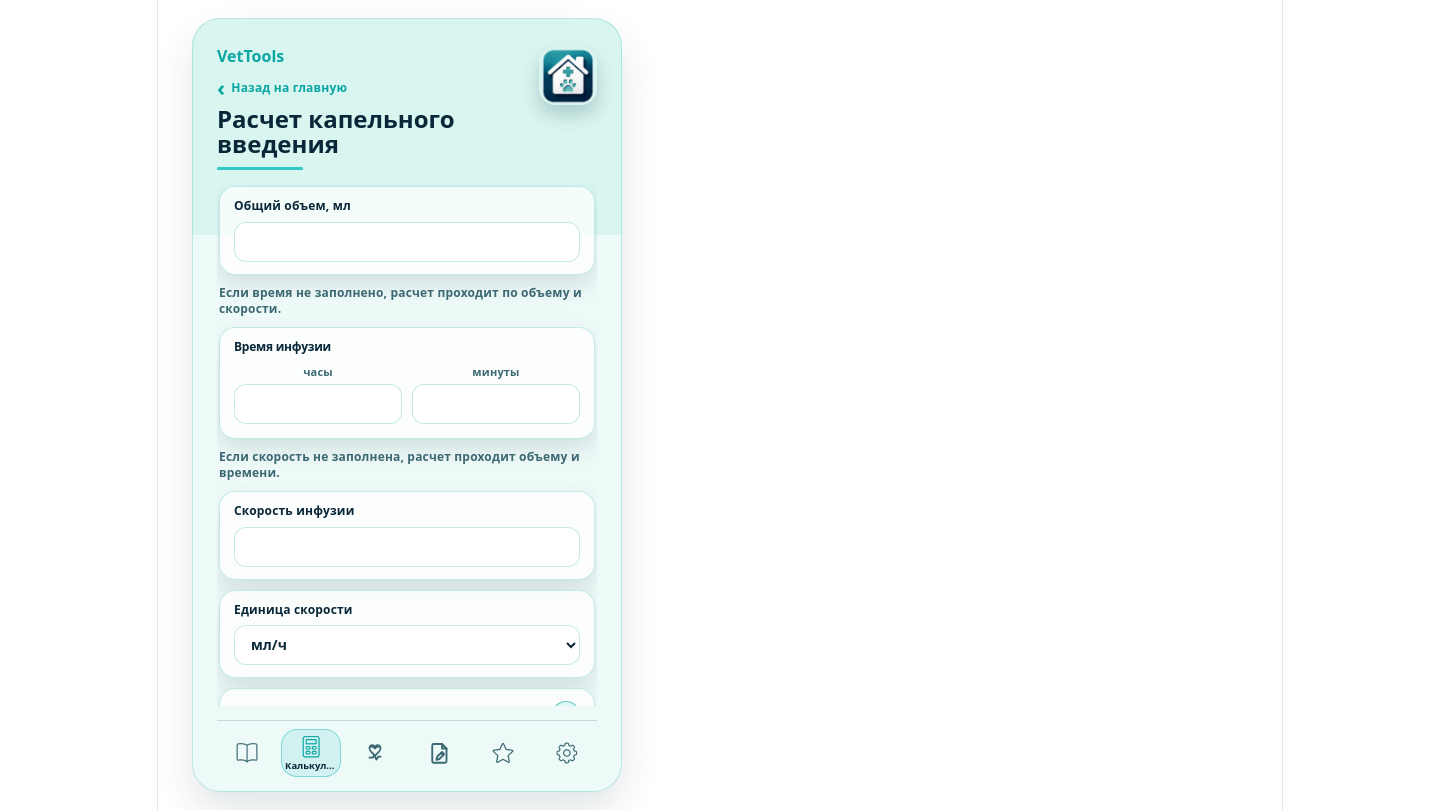
Test: IvDripPage › calculates drip tempo from volume and infusion time
The image size is (1440, 810).
Expected: the heading "Расчет капельного введения" is shown, x1=217 y1=106 x2=455 y2=170
Expected: the navigation bar named "Основная навигация" is shown, x1=217 y1=720 x2=597 y2=777
In the number field labelled "Общий объем, мл": {"x": 407, "y": 242} x1=234 y1=222 x2=580 y2=262, type "500"
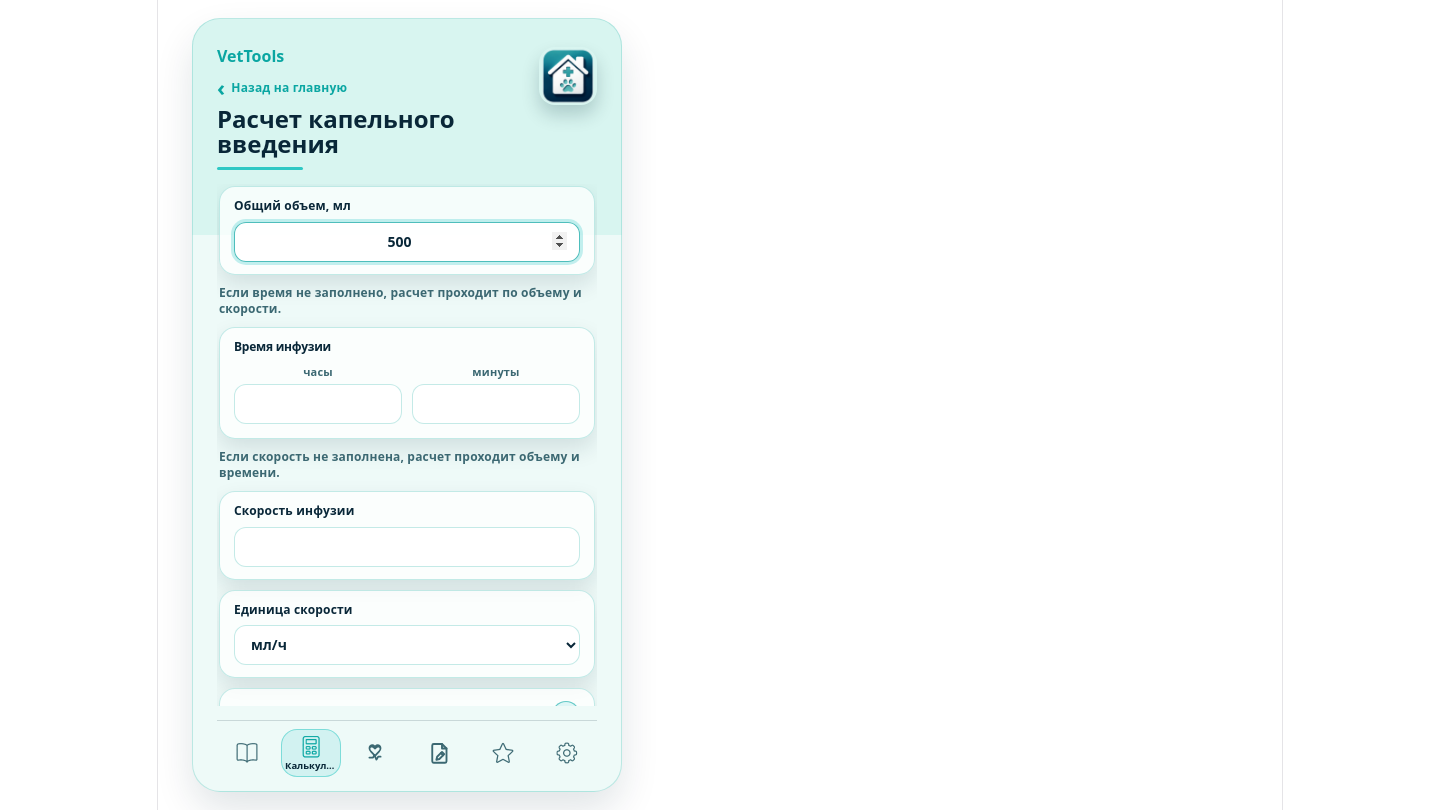
In the number field named "Время инфузии, часы": {"x": 318, "y": 404} x1=234 y1=384 x2=402 y2=424, type "4"
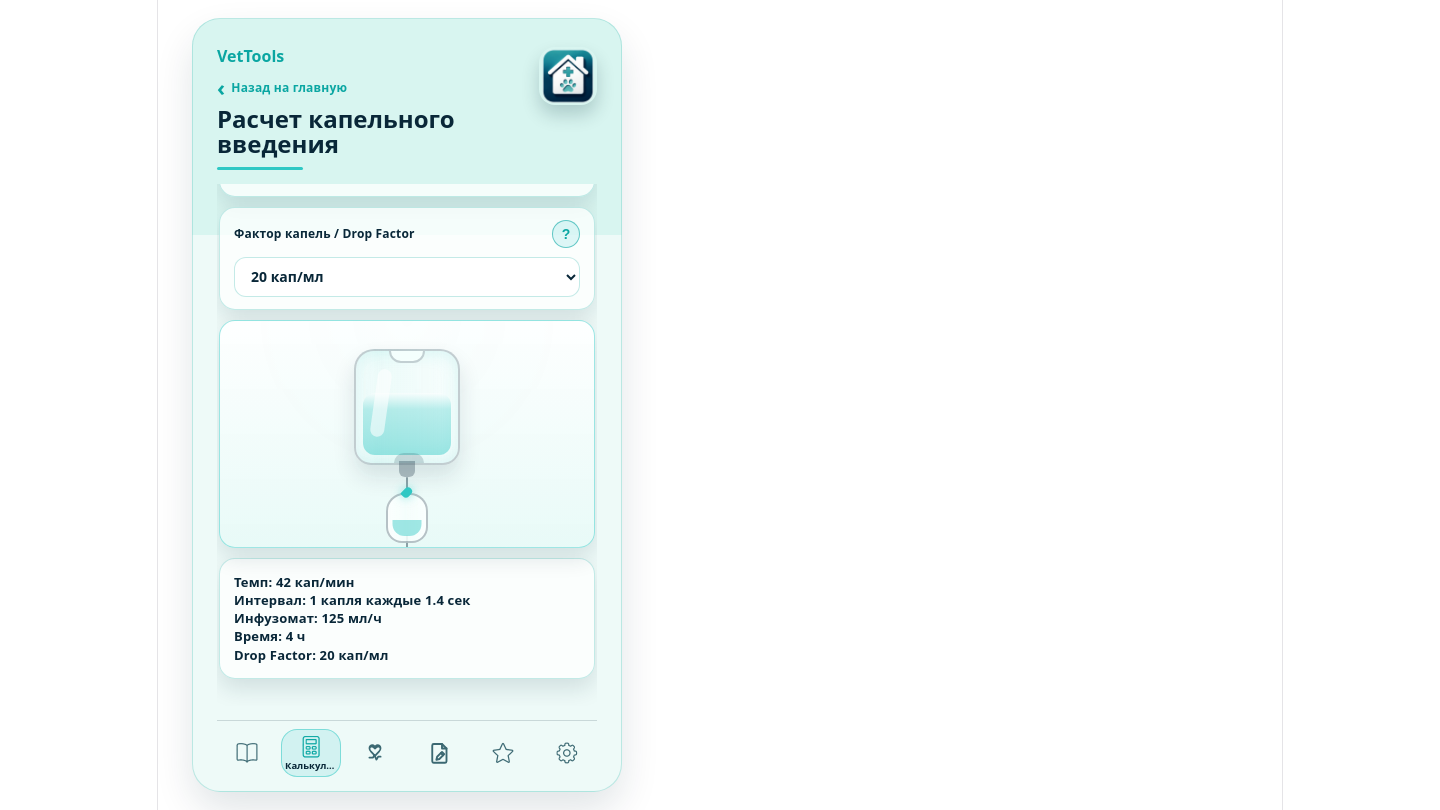
Expected: the text "Темп: 42 кап/мин" is shown, x1=234 y1=573 x2=471 y2=664
